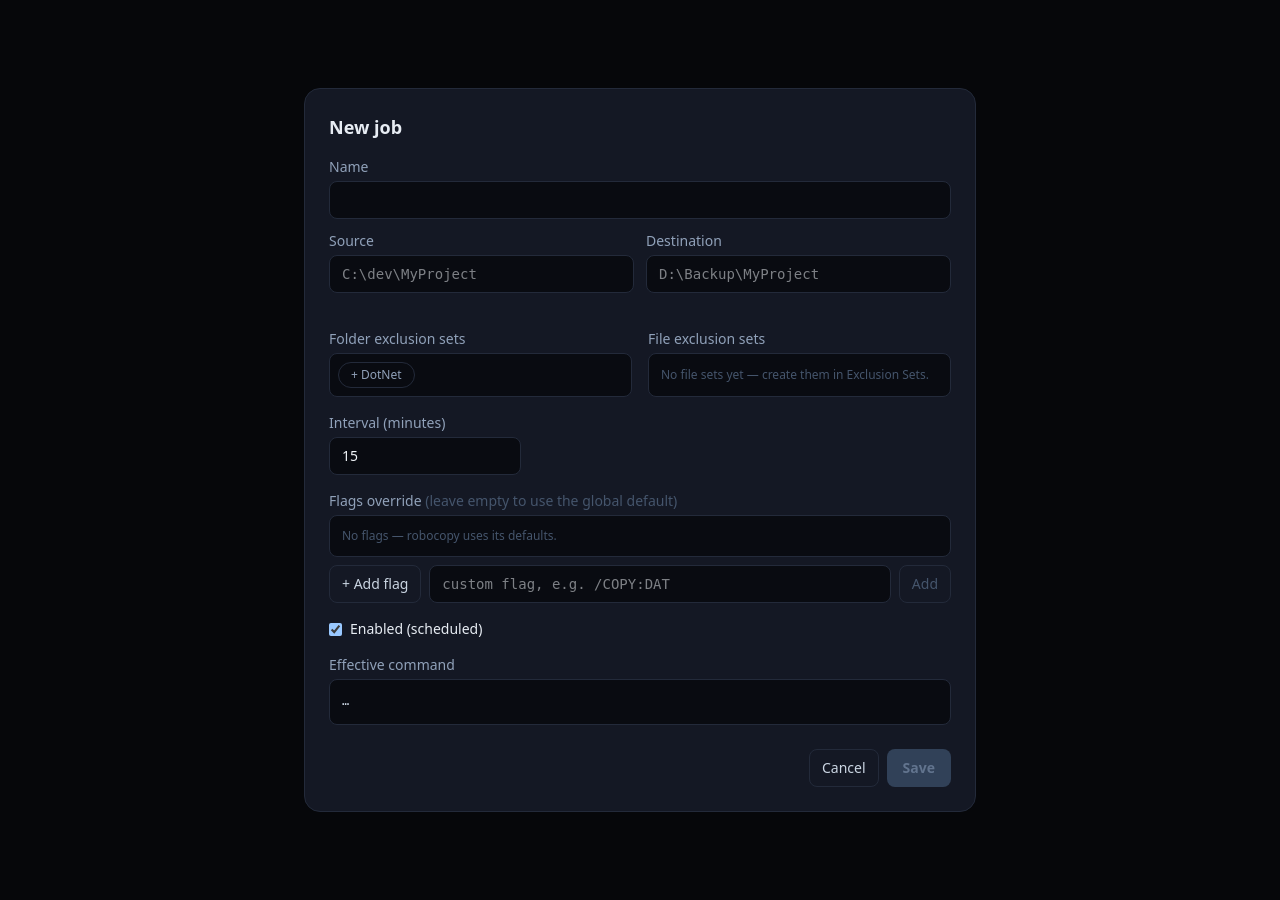
Scenario: JobEditor › keeps Save disabled until name, source and destination are filled
Expected: the button "Save" is disabled, [887, 749, 951, 787]
Type "X" into the field labelled "Name". click: (640, 200)
box: [329, 181, 951, 219]
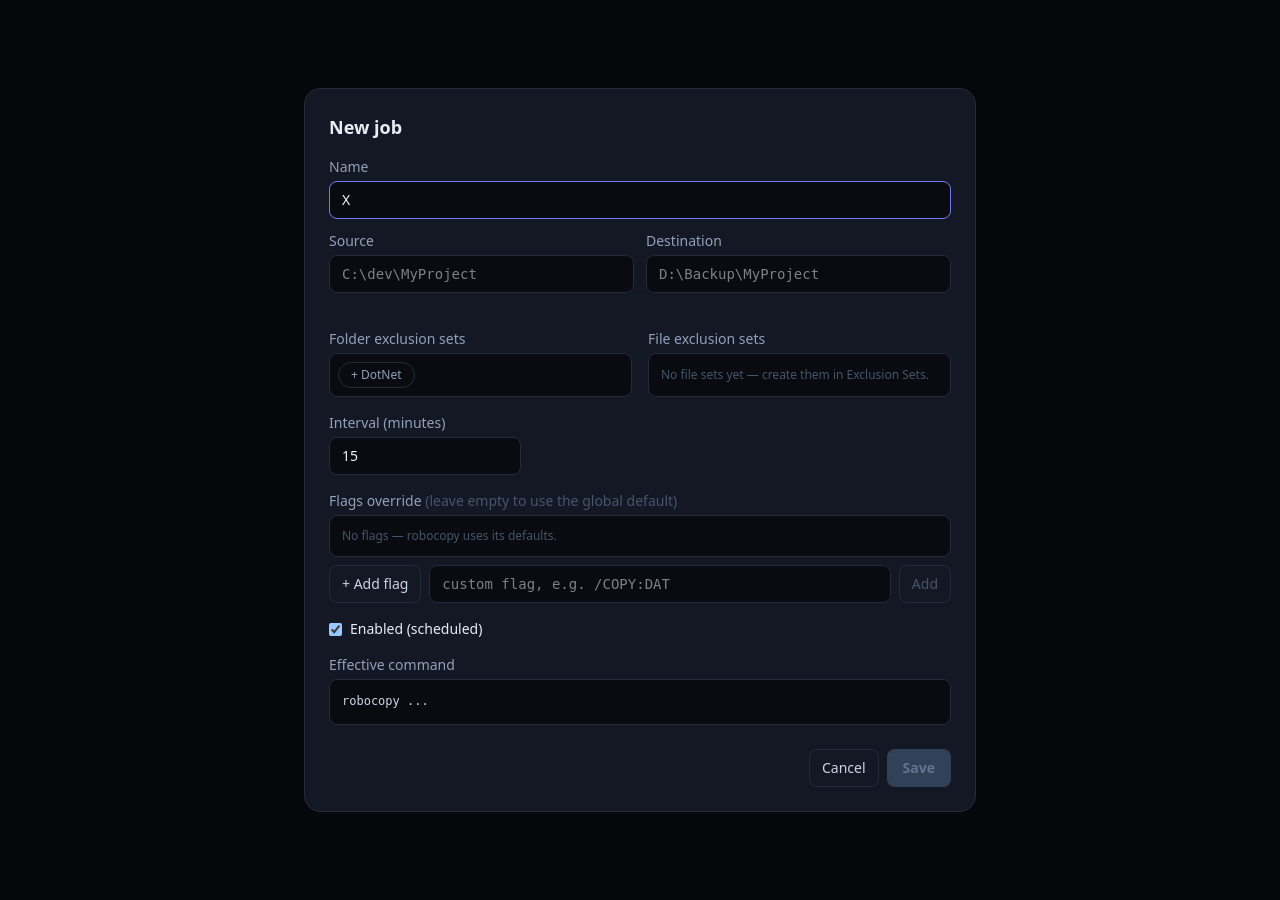
Type "s" into the field labelled "Source". click: (482, 274)
box: [329, 255, 634, 293]
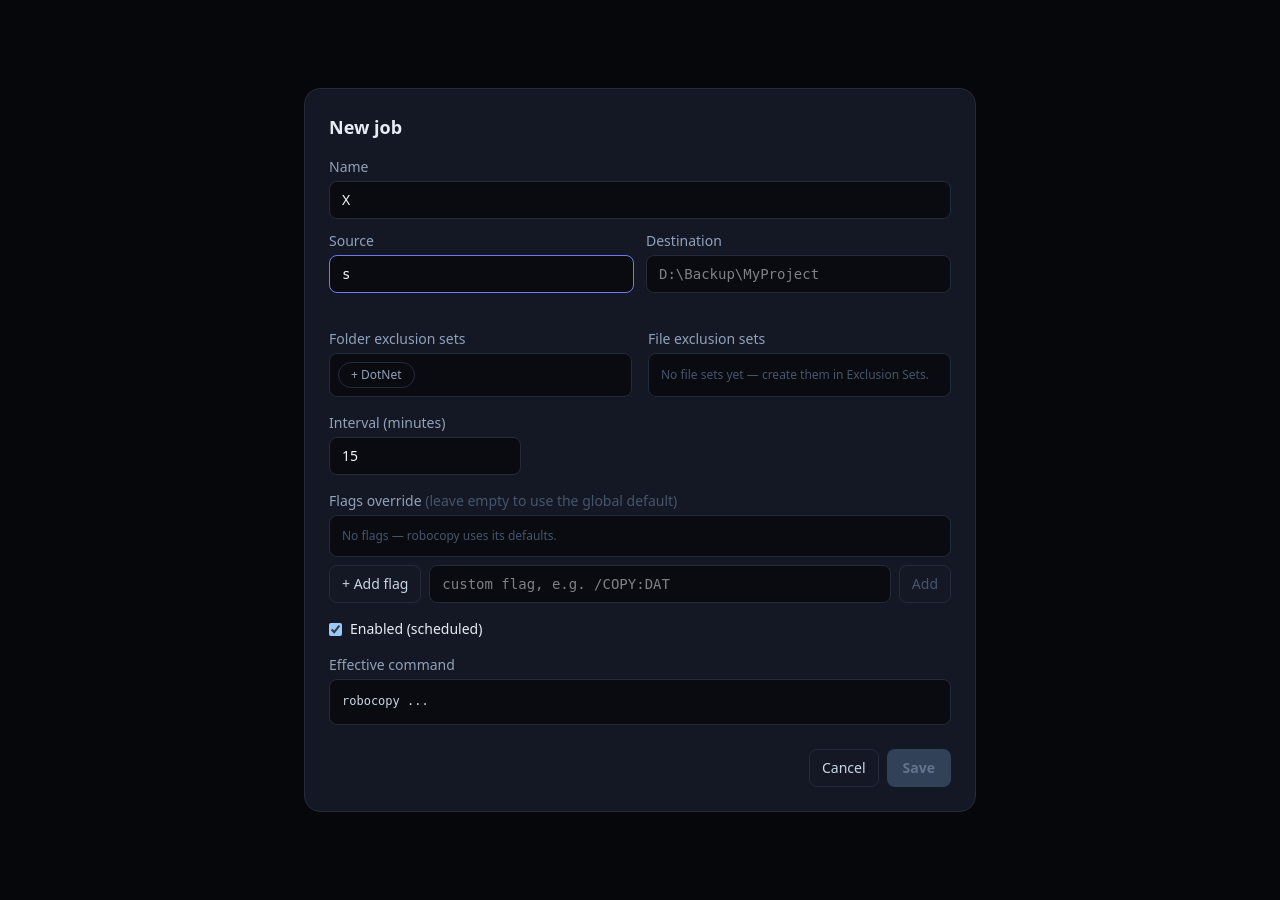
Type "d" into the field labelled "Destination". click: (798, 274)
box: [646, 255, 951, 293]
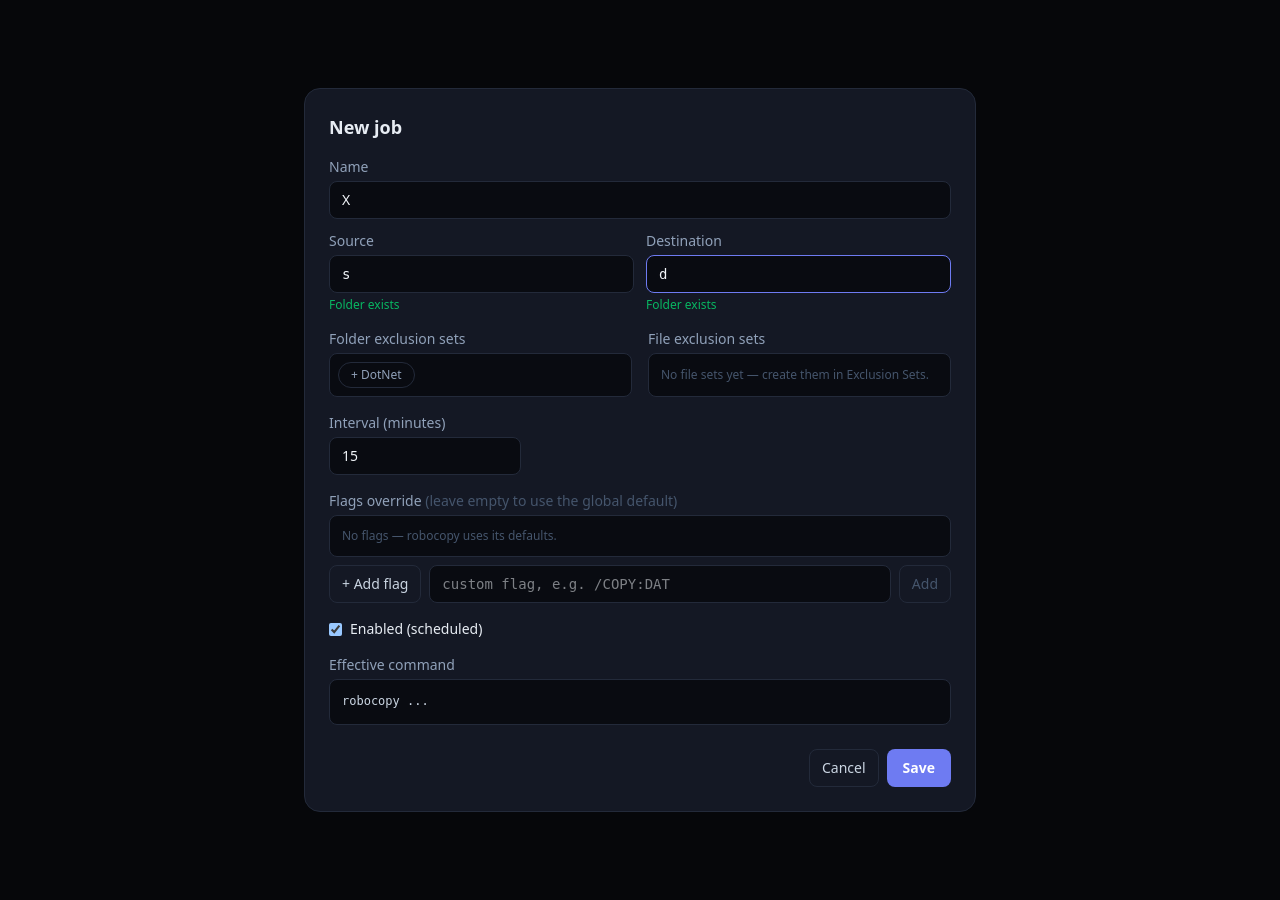
Expected: the button "Save" is enabled, [887, 749, 951, 787]
